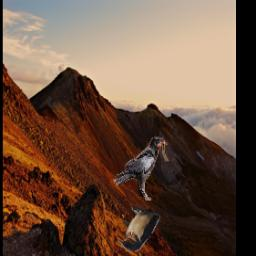Crow: (113, 134, 169, 202)
Swallow: (118, 206, 160, 251)
